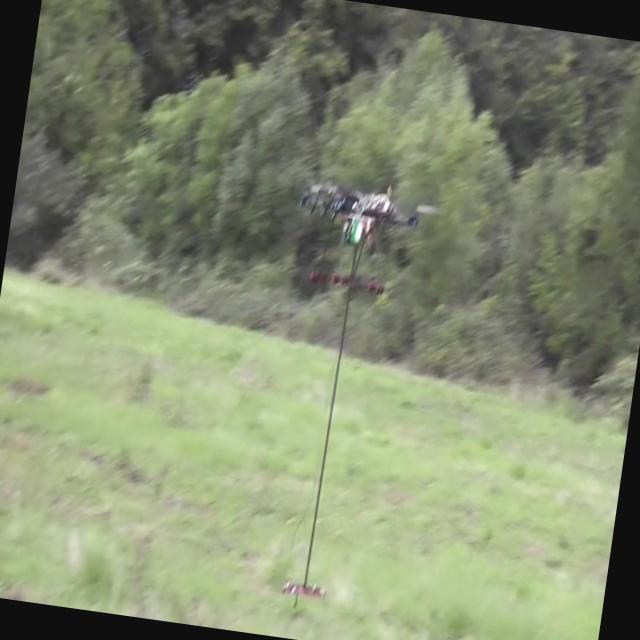drone: (287, 170, 443, 304)
